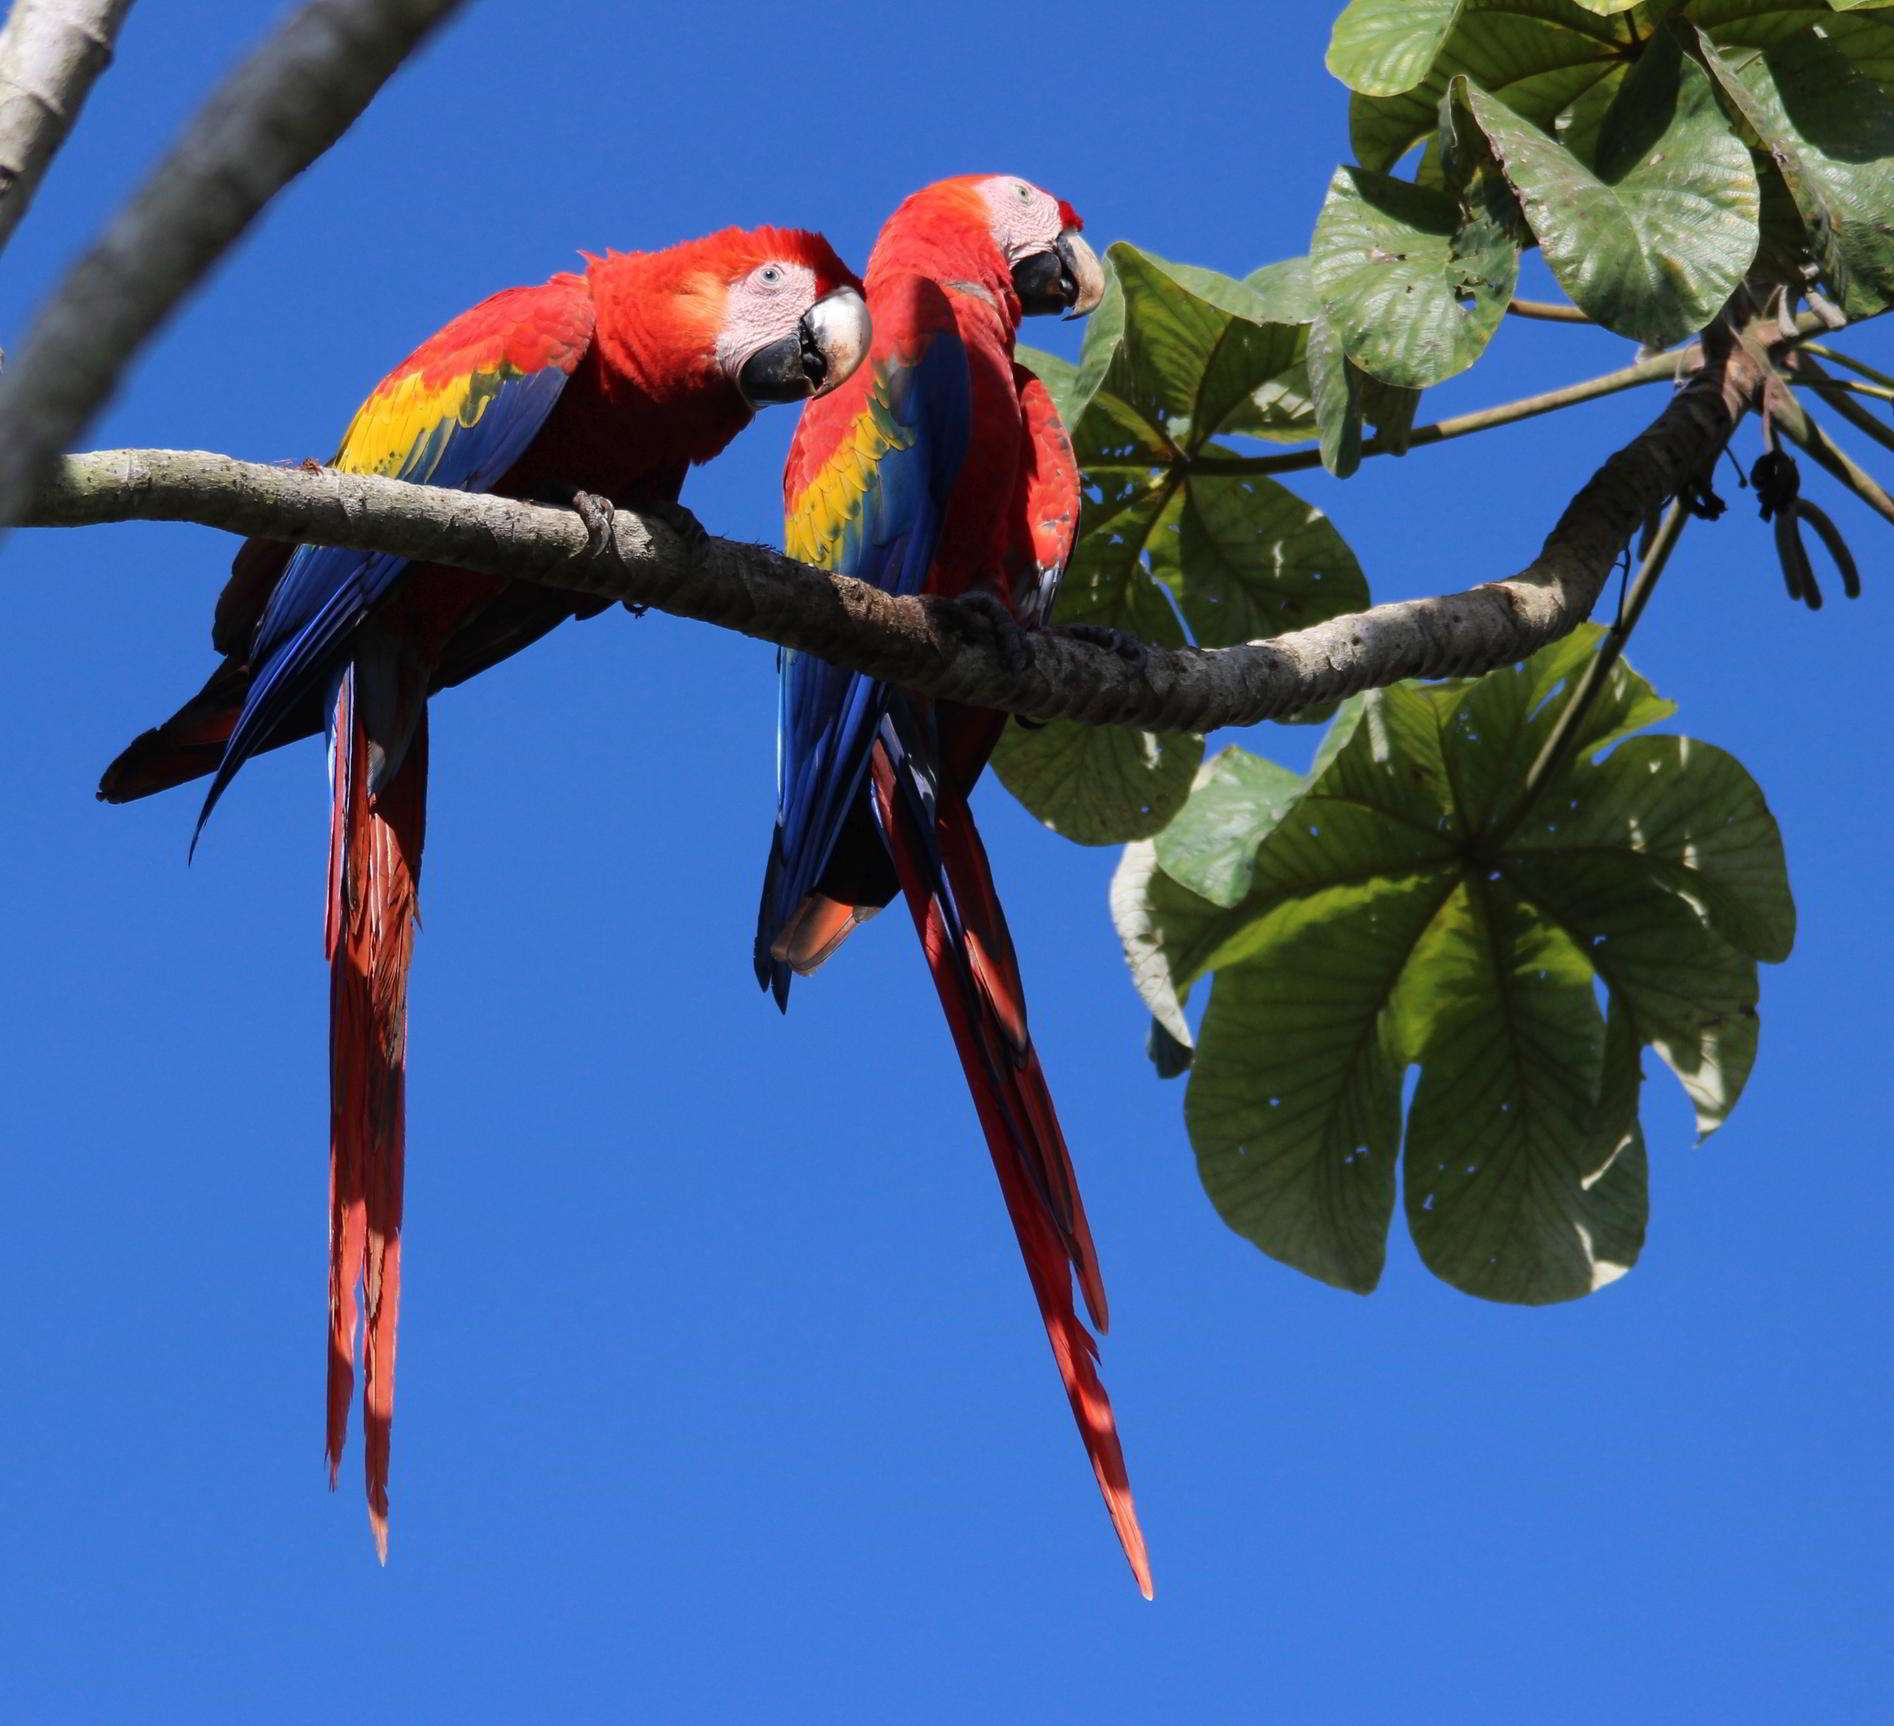Lapa: (173, 177, 865, 1419), (789, 64, 1178, 1445)
